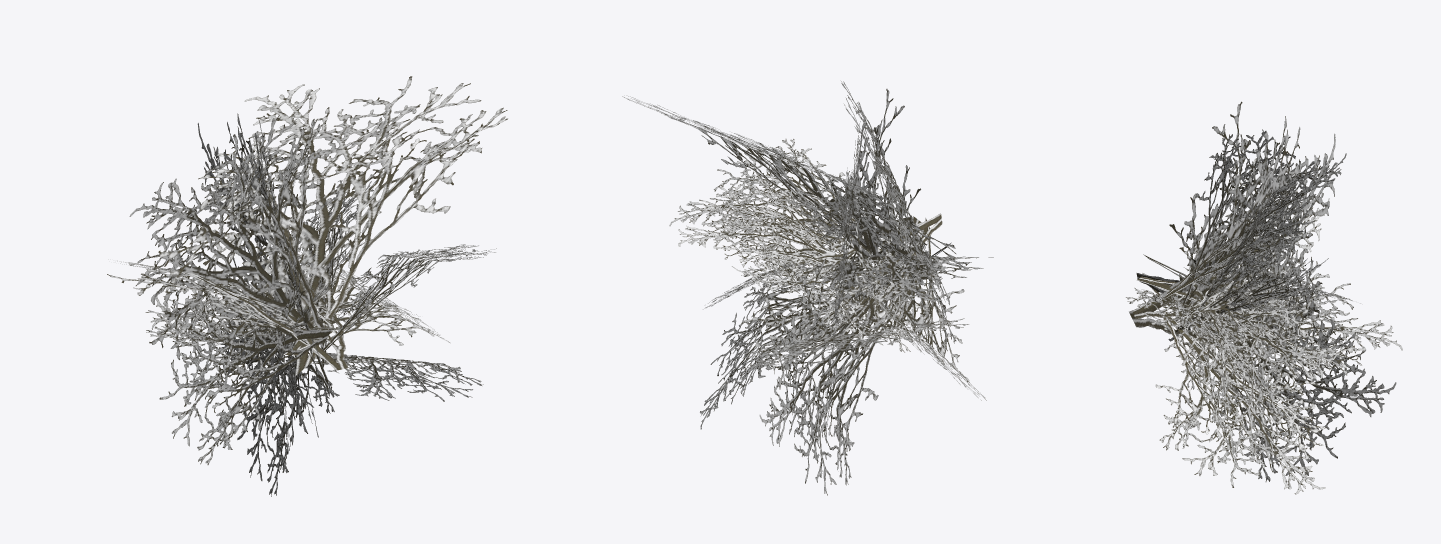
The model's file is WinterGrassEdited.fbx.
3 renders of one model, left to right at view 1: azimuth 30°, elevation 25°; view 2: azimuth 150°, elevation 25°; view 3: azimuth 270°, elevation 25°, orthographic. The views are drawn at different scales.
Visible parts, largest first — view 1: Winter_Trees_Branches.001; view 2: Winter_Trees_Branches.001; view 3: Winter_Trees_Branches.001.
Boxes of the visible parts, <box> form: Winter_Trees_Branches.001: <box>107,76,507,496</box>; Winter_Trees_Branches.001: <box>622,81,993,495</box>; Winter_Trees_Branches.001: <box>1126,101,1402,494</box>.
Bounding box in the file's own units: 722 × 704 × 440.
